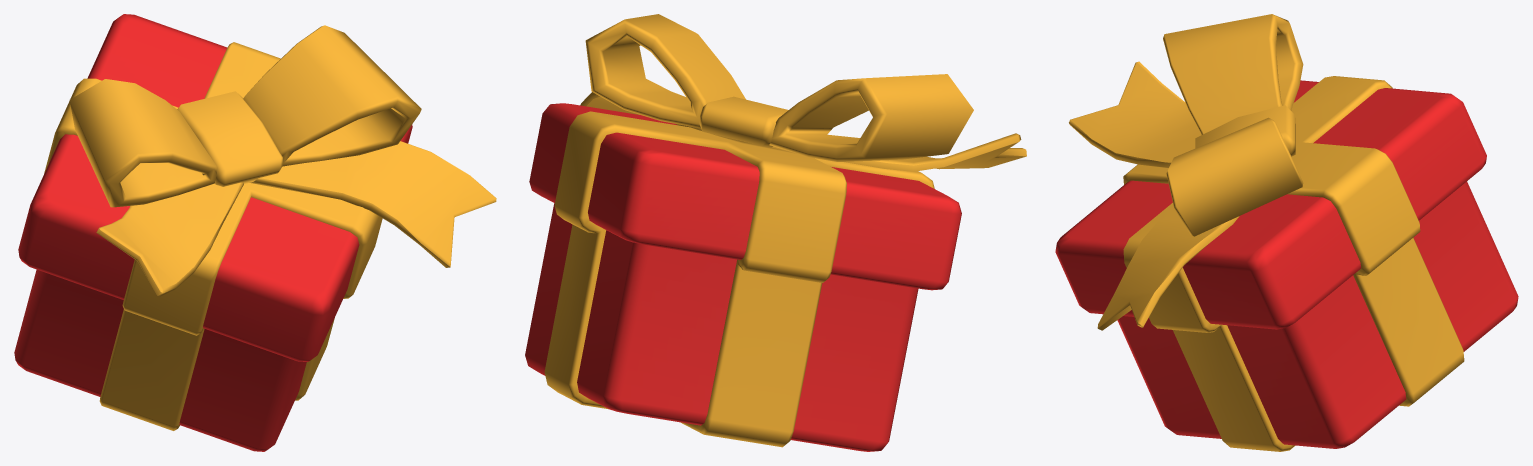
The picture shows the model from 3 angles, left to right: view 1: azimuth 30°, elevation 25°; view 2: azimuth 150°, elevation 25°; view 3: azimuth 270°, elevation 25°; orthographic projection. The views are drawn at different scales.
Parts seen in each view (by area): view 1: model_1.068; view 2: model_1.068; view 3: model_1.068.
Boxes of the visible parts, bbox=[...] form: model_1.068: bbox=[14, 14, 496, 451]; model_1.068: bbox=[525, 14, 1026, 451]; model_1.068: bbox=[1055, 14, 1518, 451].
Size of the model in its own units: 4.98 by 4.27 by 4.92.
